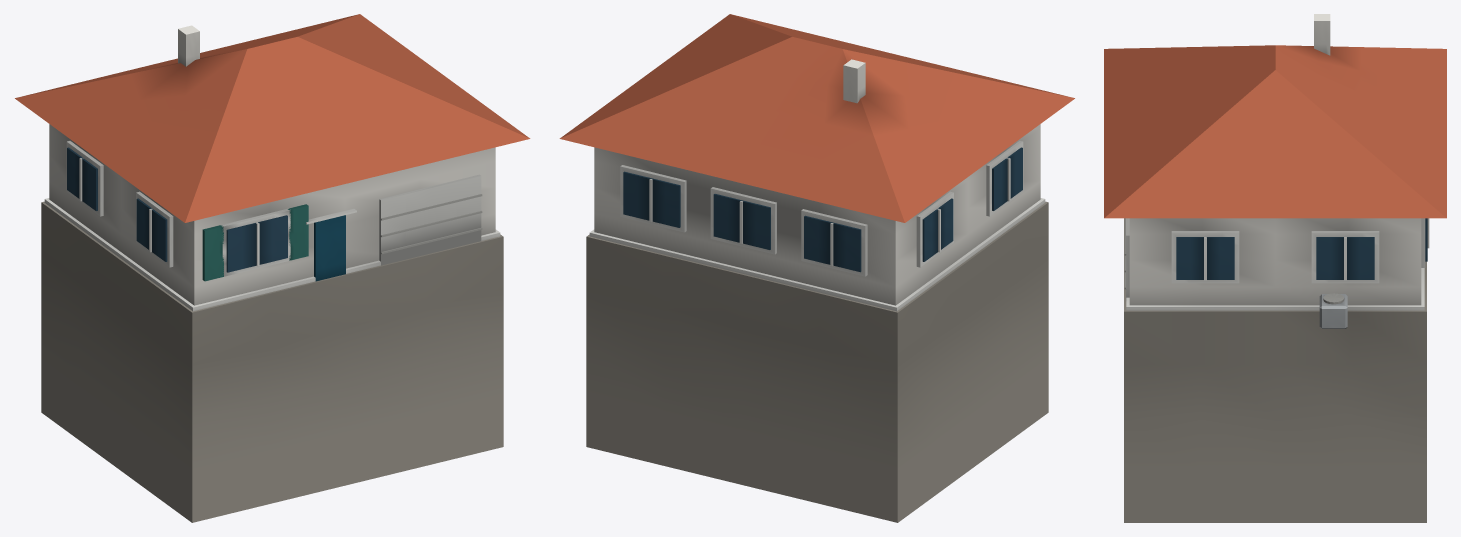
File: house_ranch.glb
The picture shows the model from 3 angles, left to right: view 1: azimuth 30°, elevation 25°; view 2: azimuth 150°, elevation 25°; view 3: azimuth 270°, elevation 25°; orthographic projection.
Parts seen in each view (by area): view 1: house_ranch; view 2: house_ranch; view 3: house_ranch.
Boxes of the visible parts, box(x1,y1,x2,y2) form: house_ranch: box(15, 14, 530, 522); house_ranch: box(559, 14, 1074, 522); house_ranch: box(1104, 14, 1446, 522).
Size of the model in its own units: 1.78 by 1.89 by 1.47.
